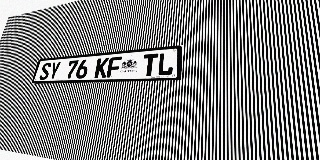plate: (32, 45, 183, 84)
